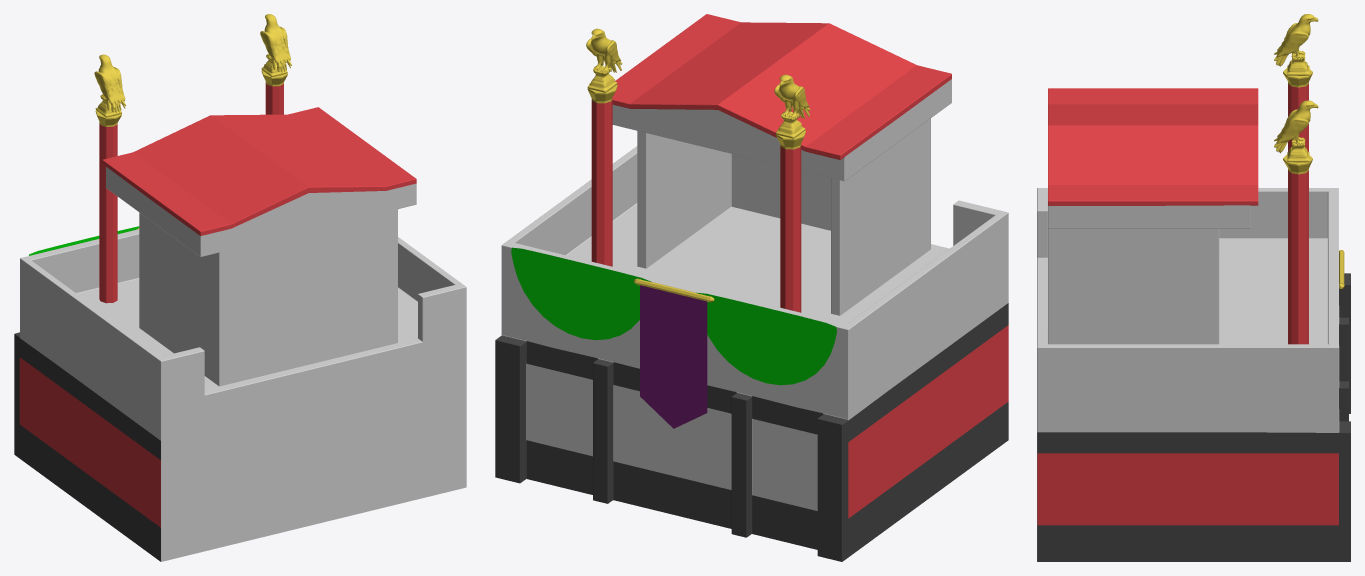
File: test_dansangfbx.fbx
3 views of the same model, side by side, from view 1: azimuth 30°, elevation 25°; view 2: azimuth 150°, elevation 25°; view 3: azimuth 270°, elevation 25° (orthographic). The views are drawn at different scales.
Visible parts, largest first — view 1: Cylinder, Cube, fillow05, Retopo_egle_base; view 2: Cylinder, Cube, flag2, flag1, fillow05, Retopo_egle_base; view 3: Cylinder, Cube, fillow05, Retopo_egle_base.
Boxes of the visible parts, x1=… form: Cylinder: x1=14, y1=229, x2=466, y2=561; Cube: x1=102, y1=107, x2=416, y2=386; fillow05: x1=95, y1=69, x2=287, y2=303; Retopo_egle_base: x1=94, y1=14, x2=291, y2=117; Cylinder: x1=495, y1=146, x2=1008, y2=561; Cube: x1=612, y1=14, x2=951, y2=315; flag2: x1=511, y1=247, x2=836, y2=385; flag1: x1=634, y1=278, x2=714, y2=428; fillow05: x1=587, y1=83, x2=805, y2=312; Retopo_egle_base: x1=586, y1=28, x2=810, y2=138; Cylinder: x1=1037, y1=188, x2=1350, y2=561; Cube: x1=1048, y1=88, x2=1258, y2=344; fillow05: x1=1283, y1=68, x2=1312, y2=344; Retopo_egle_base: x1=1274, y1=14, x2=1318, y2=162.
Bounding box in the file's own units: 1321 × 1638 × 1098.
